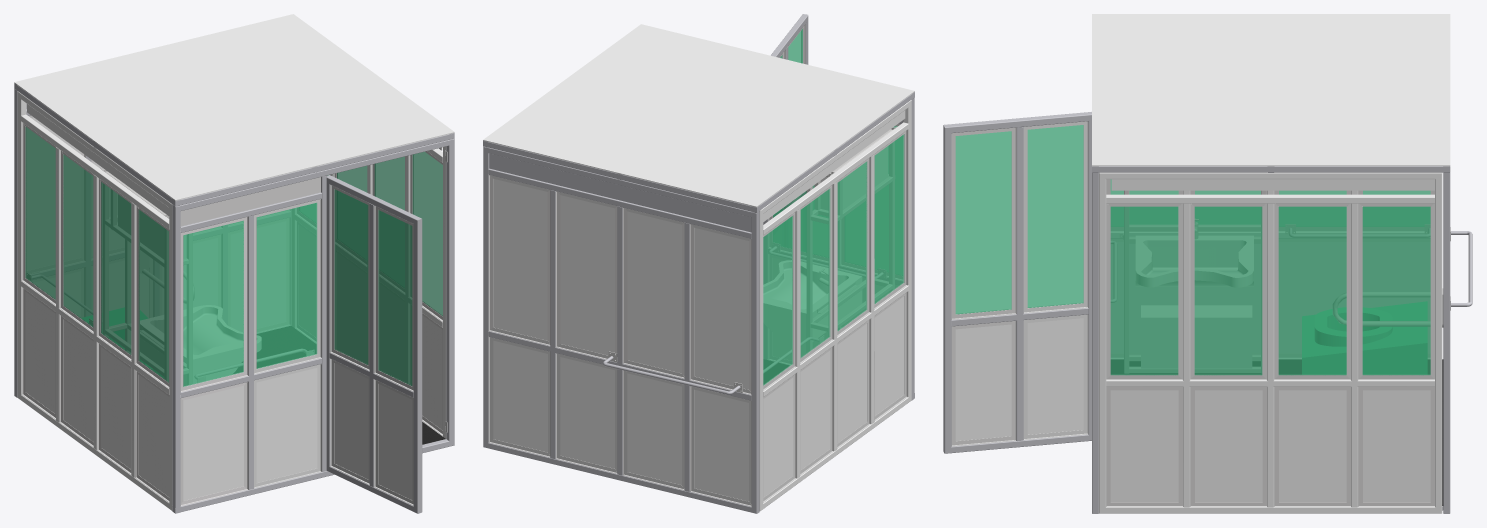
The model's file is BAÑO_QUIMICO_PORTATIL.glb.
3 views of the same model, side by side, from view 1: azimuth 30°, elevation 25°; view 2: azimuth 150°, elevation 25°; view 3: azimuth 270°, elevation 25° (orthographic). The views are drawn at different scales.
Parts seen in each view (by area): view 1: BAÑO QUIMICO PORTATIL; view 2: BAÑO QUIMICO PORTATIL; view 3: BAÑO QUIMICO PORTATIL.
Boxes of the visible parts, x1,y1,x2,y2 form: BAÑO QUIMICO PORTATIL: [14, 14, 454, 513]; BAÑO QUIMICO PORTATIL: [483, 14, 914, 513]; BAÑO QUIMICO PORTATIL: [943, 14, 1472, 513].
Bounding box in the file's own units: 2 × 2.15 × 2.95.
Materials: 14 (1 with a texture image).
